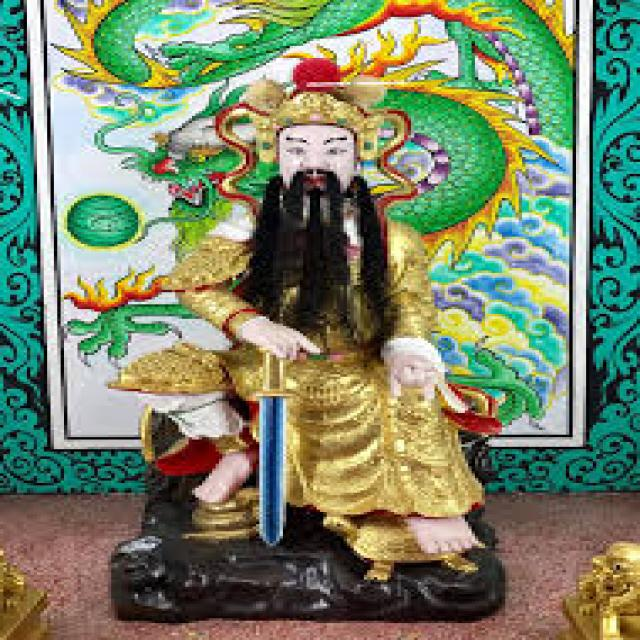Xuan wu: (142, 68, 470, 525)
